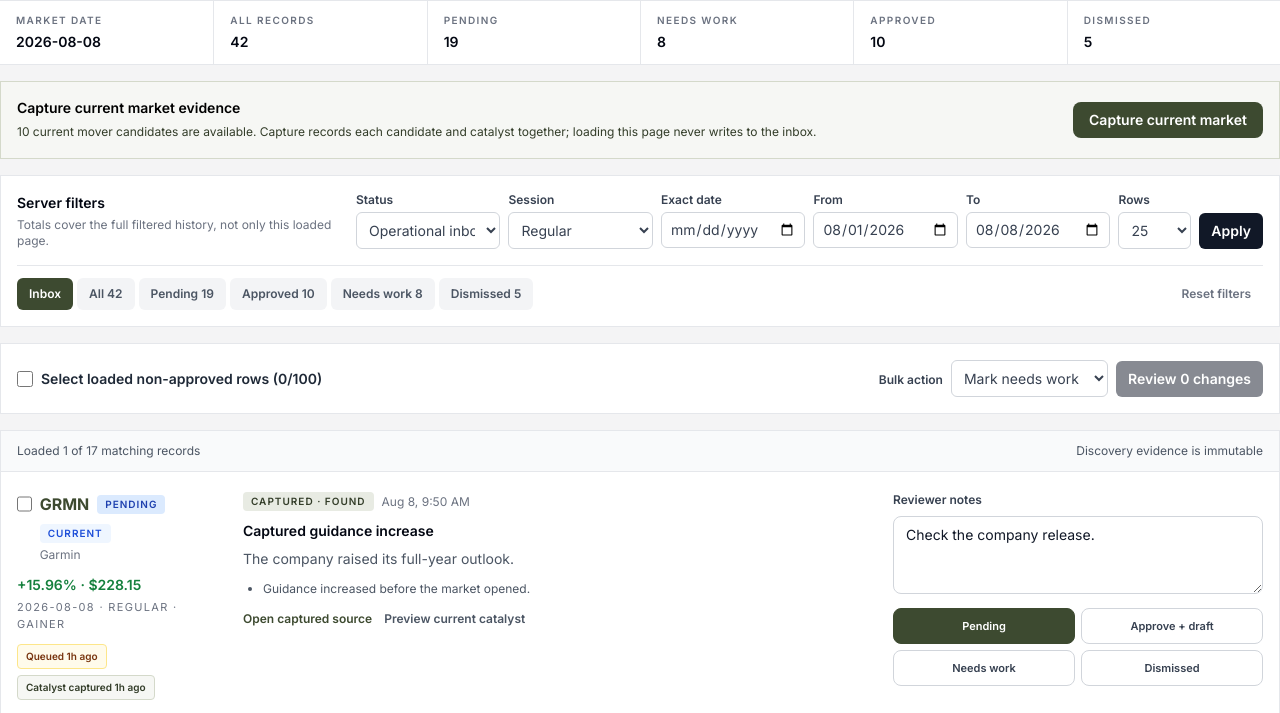
Test: WhyMovedReviewQueue › refreshes and focuses the conflict message after a stale individual save
This screenshot has width=1280, height=713.
Click the button "Needs work". click: click(984, 668)
box: [893,650,1075,686]
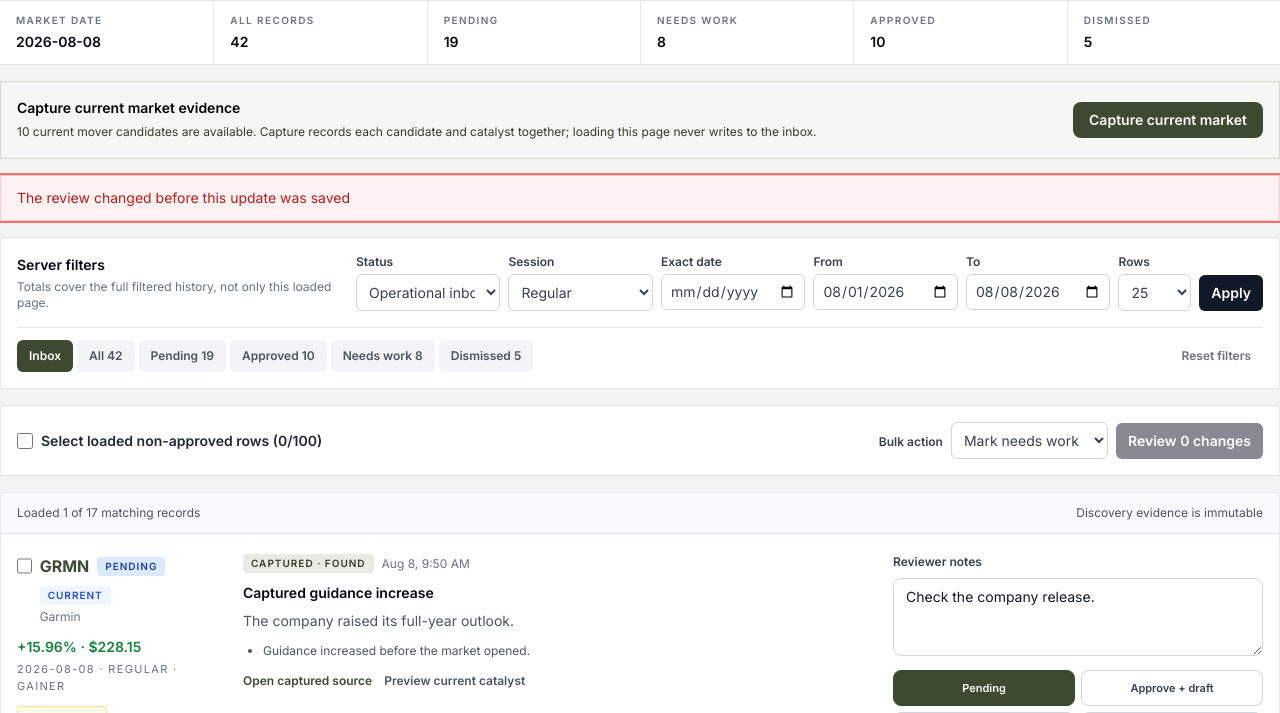
Now the message reads "The review changed before this update was saved", box [17,189,350,206]
